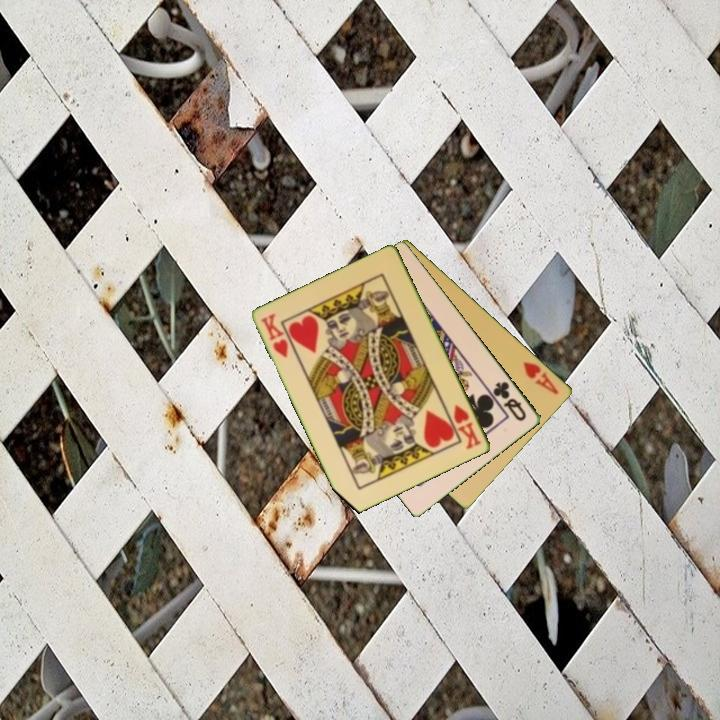Ah: (520, 358, 562, 397)
Kh: (450, 401, 485, 452), (258, 310, 292, 361)
Qc: (489, 378, 530, 424)
